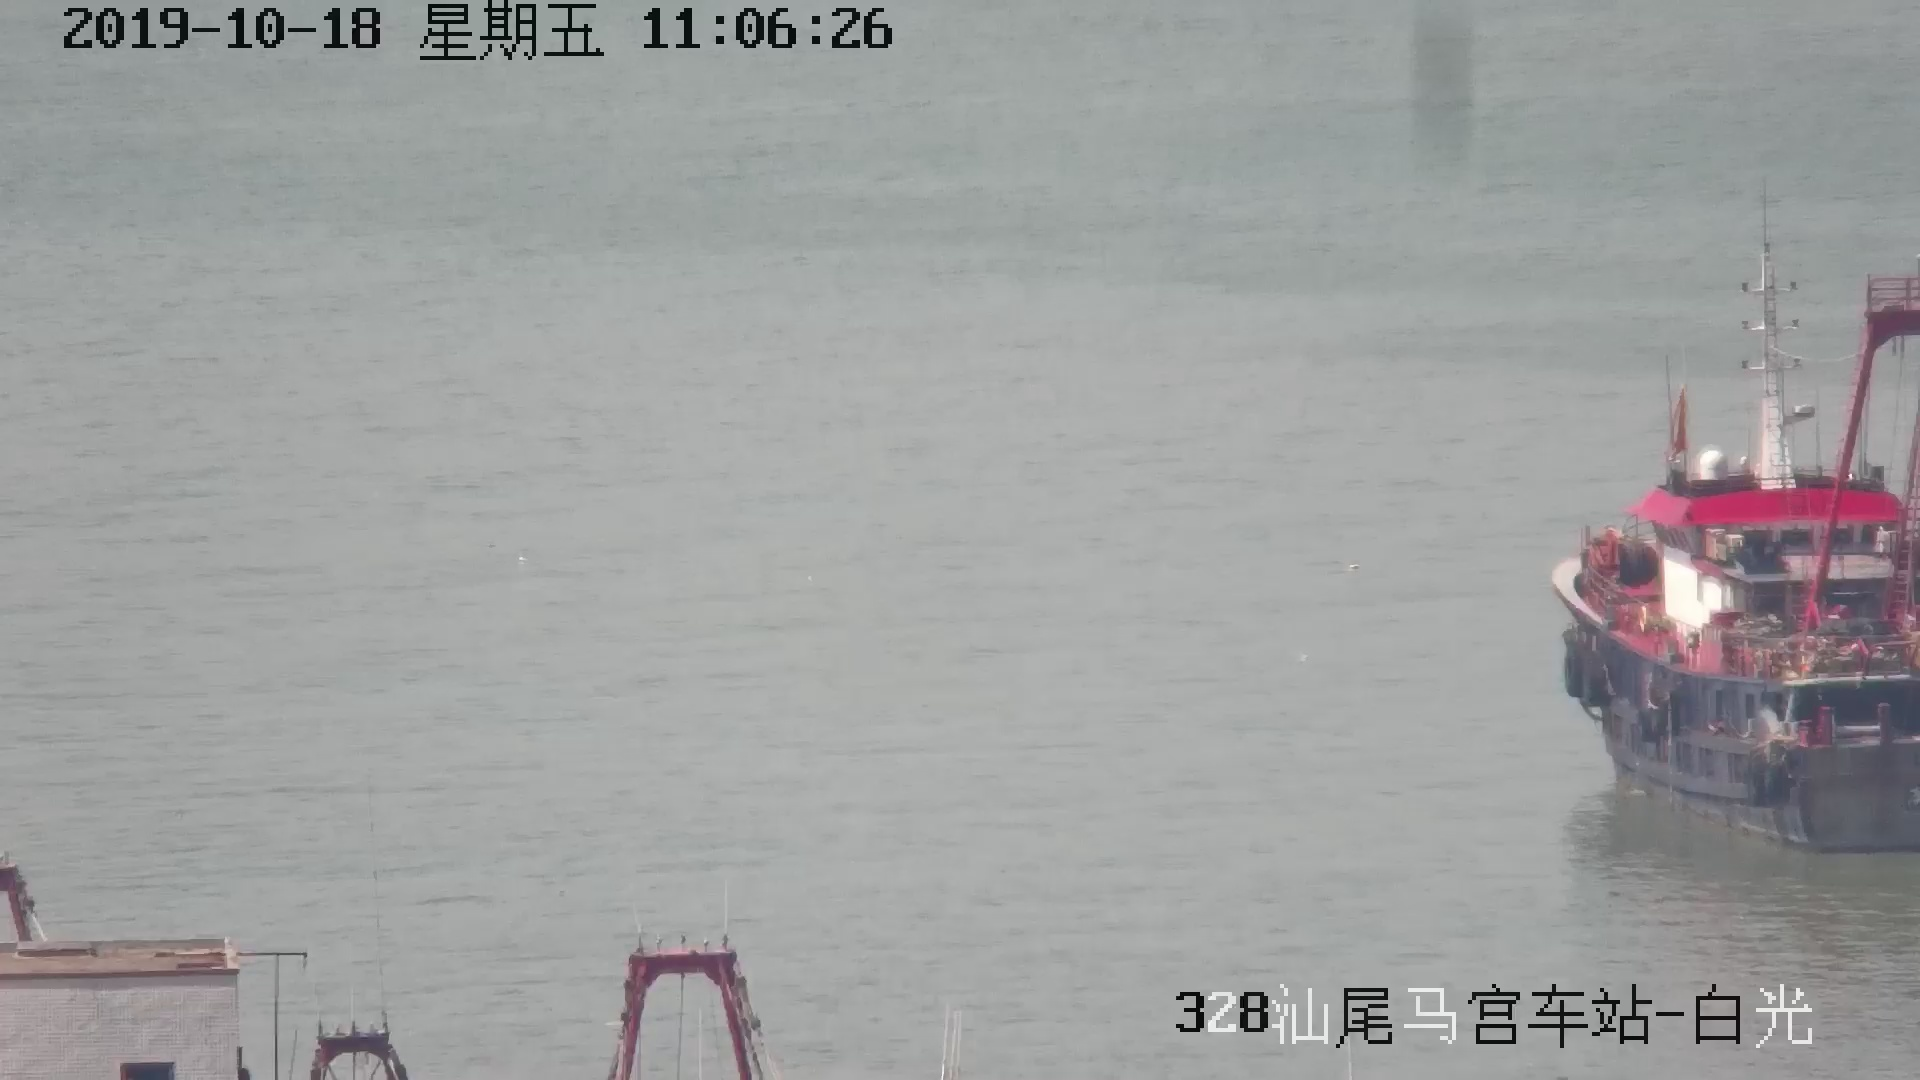ship: (1538, 261, 1920, 844)
